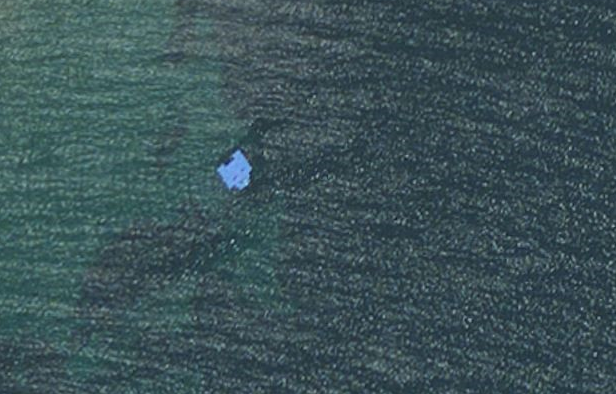ship: (210, 146, 258, 194)
